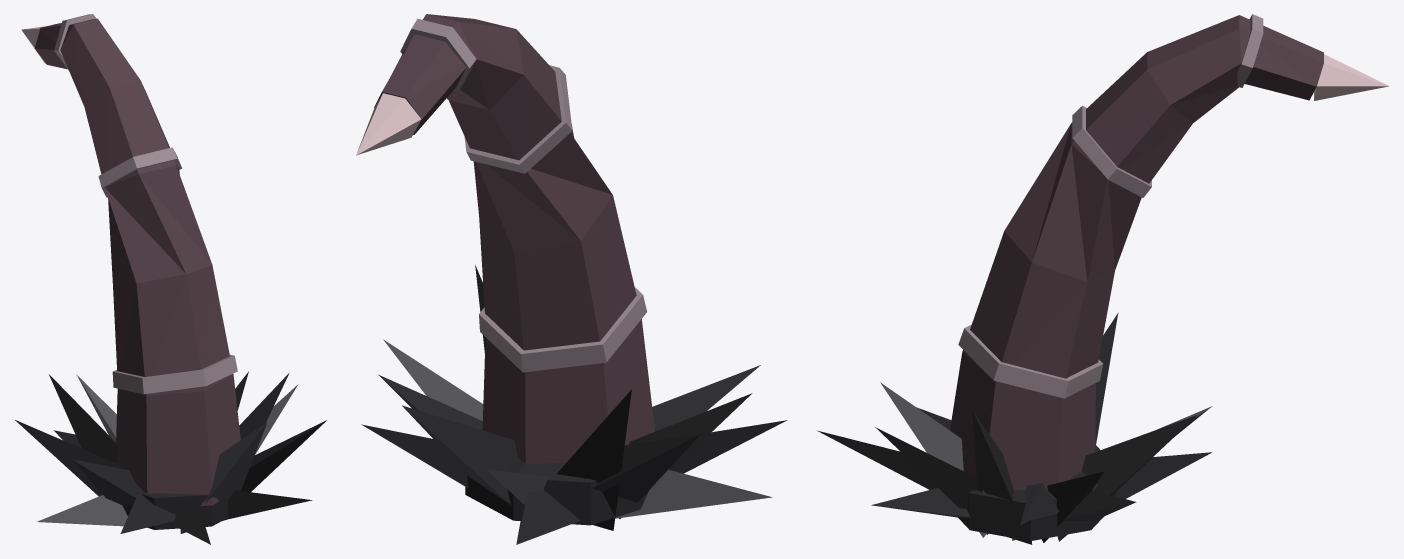
Rendered from twisted_support_large.obj.
The picture shows the model from 3 angles, left to right: view 1: azimuth 30°, elevation 25°; view 2: azimuth 150°, elevation 25°; view 3: azimuth 270°, elevation 25°; orthographic projection. The views are drawn at different scales.
Visible parts, largest first — view 1: twisted_support_large_18, twisted_support_large_20, twisted_support_large_13, twisted_support_large_7, twisted_support_large_0, twisted_support_large_9, twisted_support_large_8, twisted_support_large_10, twisted_support_large_15, twisted_support_large_14, twisted_support_large_21, twisted_support_large_11 (+5 smaller); view 2: twisted_support_large_18, twisted_support_large_0, twisted_support_large_20, twisted_support_large_4, twisted_support_large_7, twisted_support_large_9, twisted_support_large_8, twisted_support_large_19, twisted_support_large_21, twisted_support_large_12, twisted_support_large_1, twisted_support_large_6 (+6 smaller); view 3: twisted_support_large_18, twisted_support_large_0, twisted_support_large_20, twisted_support_large_4, twisted_support_large_13, twisted_support_large_15, twisted_support_large_16, twisted_support_large_21, twisted_support_large_19, twisted_support_large_12, twisted_support_large_6, twisted_support_large_14 (+5 smaller).
Part boxes in pixels (box(x1,y1,x2,y2)): twisted_support_large_18: box(34, 18, 240, 505); twisted_support_large_20: box(112, 354, 237, 394); twisted_support_large_13: box(180, 423, 266, 533); twisted_support_large_7: box(49, 374, 117, 463); twisted_support_large_0: box(122, 484, 228, 529); twisted_support_large_9: box(37, 495, 127, 526); twisted_support_large_8: box(15, 420, 124, 496); twisted_support_large_10: box(71, 459, 137, 505); twisted_support_large_15: box(241, 420, 326, 492); twisted_support_large_14: box(224, 490, 312, 520); twisted_support_large_21: box(98, 147, 181, 197); twisted_support_large_11: box(120, 490, 175, 533); twisted_support_large_18: box(374, 14, 654, 463); twisted_support_large_0: box(465, 429, 657, 525); twisted_support_large_20: box(479, 287, 646, 372); twisted_support_large_4: box(402, 405, 517, 504); twisted_support_large_7: box(556, 389, 631, 530); twisted_support_large_9: box(615, 469, 772, 518); twisted_support_large_8: box(592, 434, 700, 502); twisted_support_large_19: box(356, 93, 421, 155); twisted_support_large_21: box(464, 65, 572, 173); twisted_support_large_12: box(652, 365, 760, 430); twisted_support_large_1: box(383, 339, 483, 420); twisted_support_large_6: box(516, 489, 580, 544); twisted_support_large_18: box(950, 15, 1323, 493); twisted_support_large_0: box(958, 445, 1116, 540); twisted_support_large_20: box(958, 324, 1102, 398); twisted_support_large_4: box(1057, 415, 1197, 541); twisted_support_large_13: box(880, 382, 986, 537); twisted_support_large_15: box(875, 427, 988, 534); twisted_support_large_16: box(972, 411, 1032, 544); twisted_support_large_21: box(1072, 105, 1151, 197); twisted_support_large_19: box(1314, 54, 1389, 100); twisted_support_large_12: box(817, 430, 937, 489); twisted_support_large_6: box(1116, 452, 1211, 498); twisted_support_large_14: box(871, 488, 970, 517).
Bounding box in the file's own units: 2.96 × 4.35 × 4.56.
